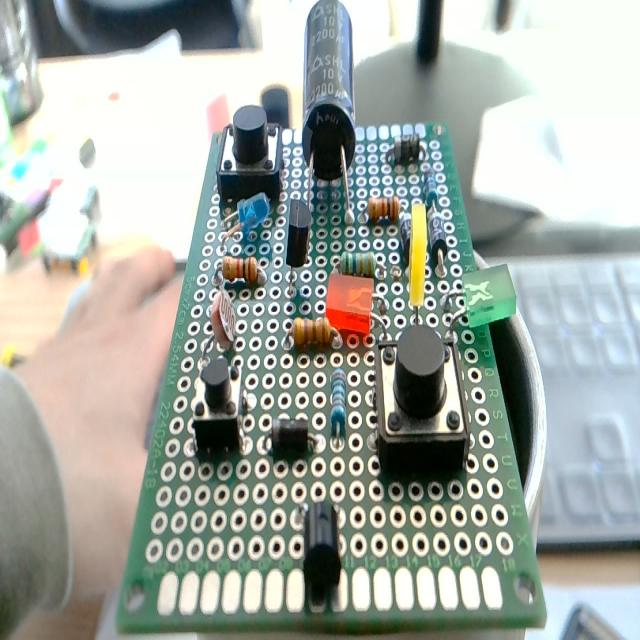Electrolytic capacitor: (299, 5, 357, 223)
cds: (202, 282, 238, 356)
diode: (263, 418, 321, 455), (386, 134, 425, 168), (428, 206, 448, 270), (402, 211, 418, 280)
led: (456, 261, 519, 328), (325, 270, 373, 337), (219, 192, 270, 247), (408, 204, 428, 328)
resistor: (291, 317, 335, 351), (330, 368, 348, 440), (223, 256, 264, 284), (340, 252, 376, 276), (367, 196, 399, 223), (421, 166, 438, 207)
switch: (374, 328, 469, 479), (216, 104, 285, 206), (193, 351, 245, 454)
transistor: (301, 496, 343, 603), (286, 199, 310, 298)
